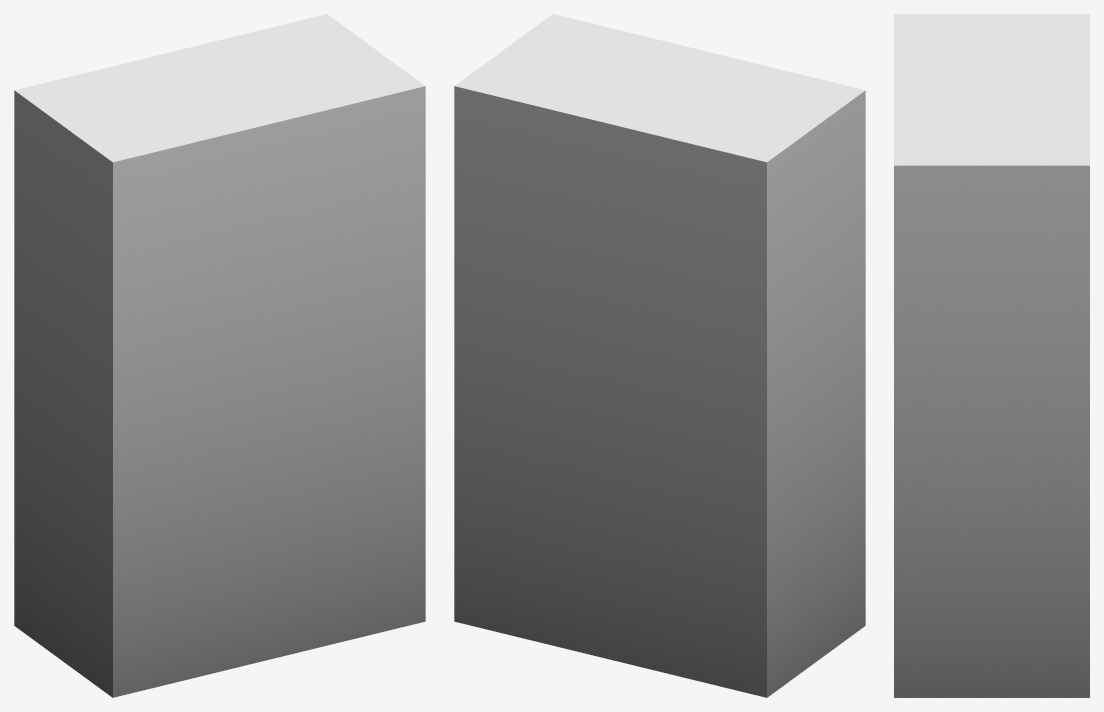
The model's file is 06-snack.fbx.
3 renders of one model, left to right at view 1: azimuth 30°, elevation 25°; view 2: azimuth 150°, elevation 25°; view 3: azimuth 270°, elevation 25°, orthographic.
Visible parts, largest first — view 1: 06_obj_snack; view 2: 06_obj_snack; view 3: 06_obj_snack.
Part boxes in pixels (x1,y1,x2,y2): 06_obj_snack: [14, 14, 425, 697]; 06_obj_snack: [454, 14, 865, 697]; 06_obj_snack: [894, 14, 1089, 697].
Size of what is drawn, in the model's own units: 11 by 18 by 6.
1 material, 1 textured.
